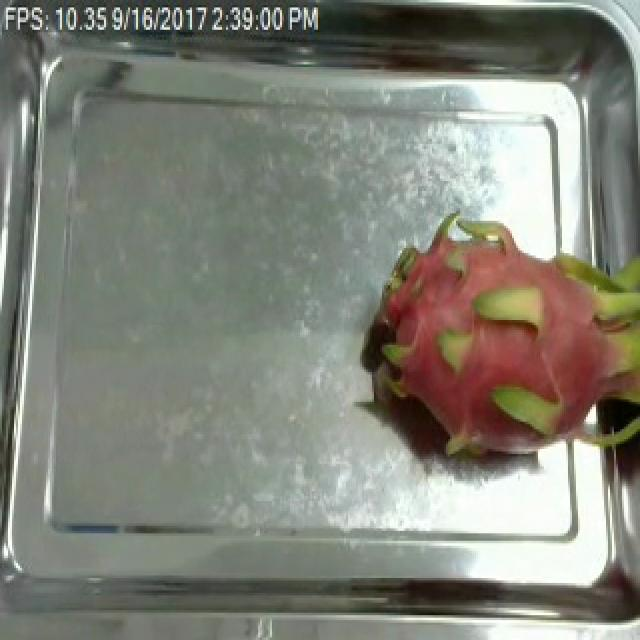fruit: (354, 164, 640, 506)
